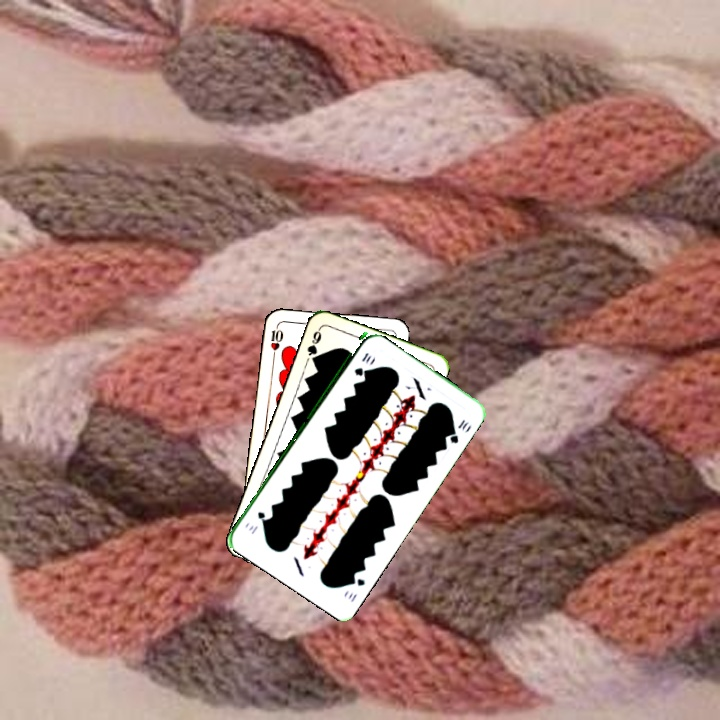G10: (344, 571, 367, 605), (350, 348, 374, 378)
G9: (303, 325, 324, 366)
H10: (266, 321, 284, 361)
